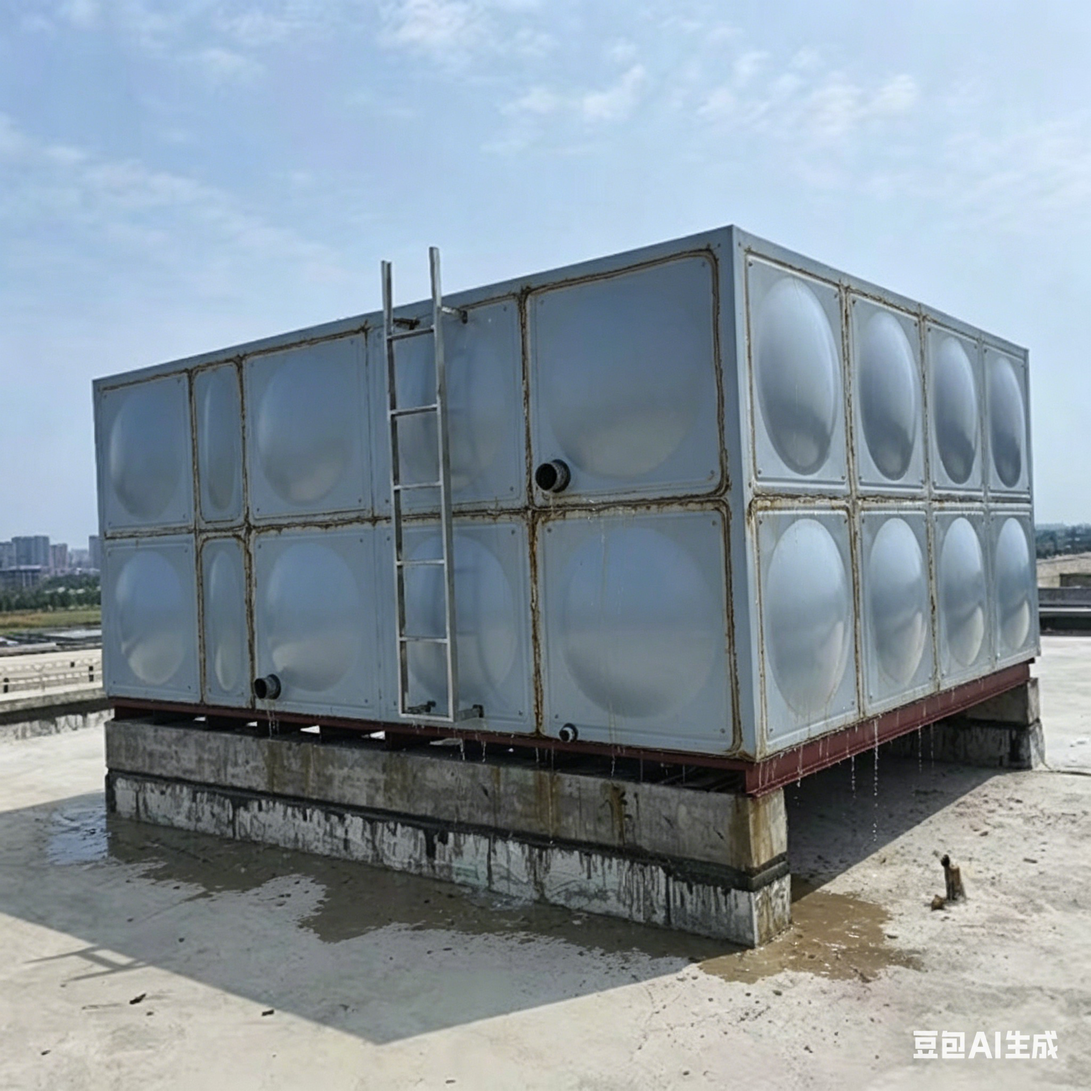Leakage: (58, 804, 331, 892), (788, 704, 939, 846), (369, 874, 674, 941), (690, 894, 902, 929)
